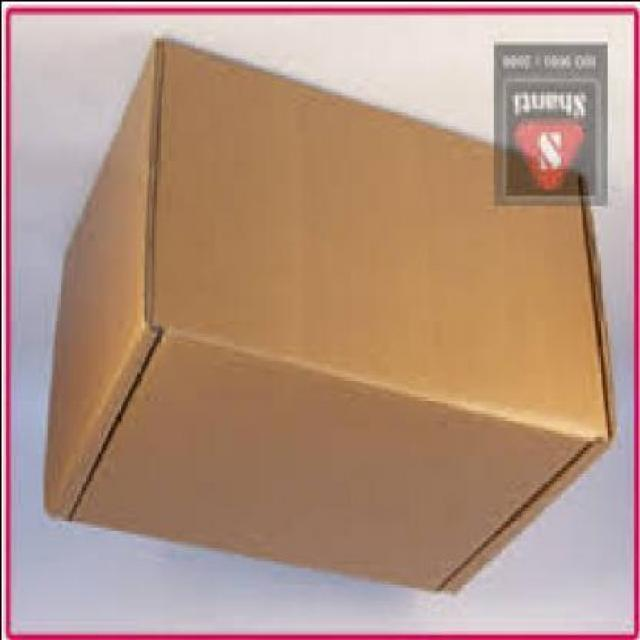box: (47, 40, 616, 600)
